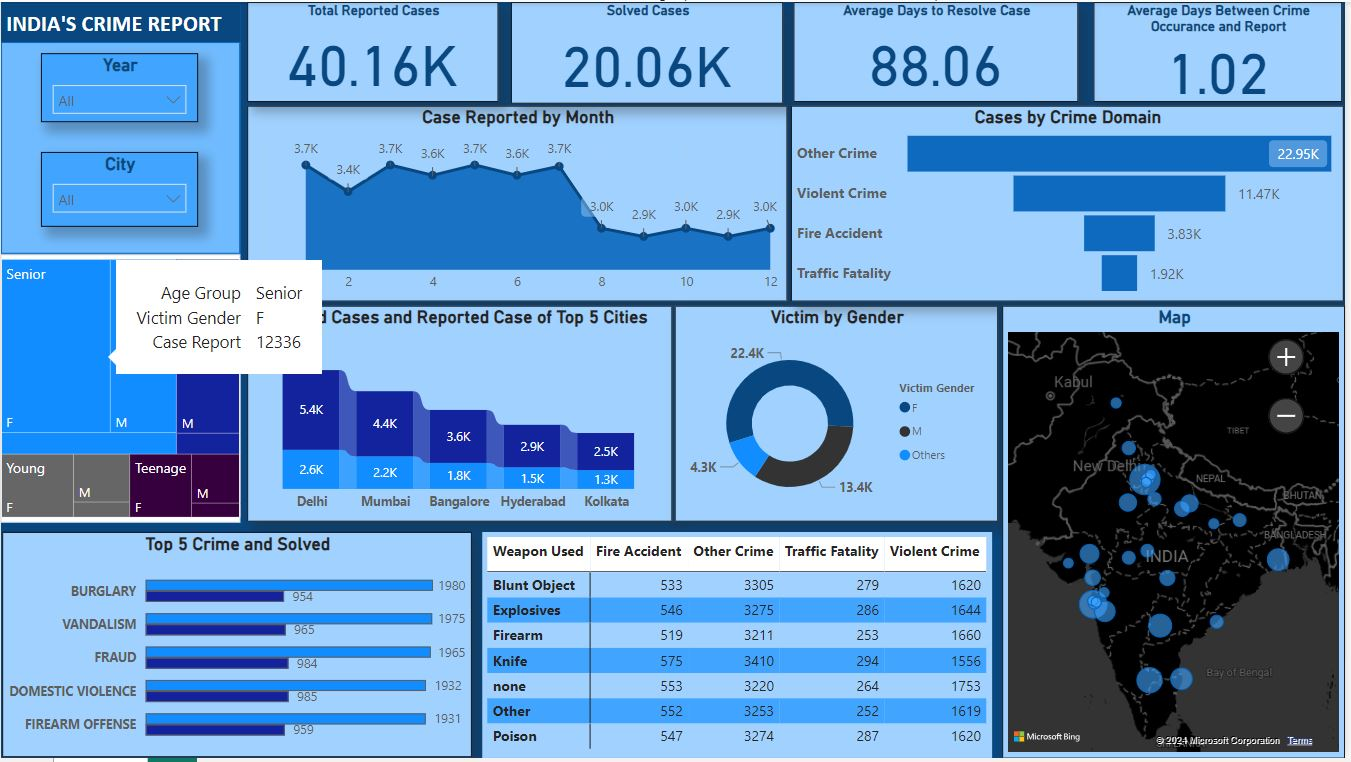

This screenshot's page, from the dashboard's own definition file:
{"tool":"powerbi","page":{"name":"Page 1","canvas":[1280,720],"ordinal":0},"visuals":[{"type":"lineChart","title":"Case Reported by Month","fields":{"Category":["india_crime.Month of occurance"],"Y":["CountNonNull(india_crime.Report Number)"]},"box":[234.6,98.8,514.6,186.6],"z":0},{"type":"card","title":"Total Reported Cases","fields":{"Values":["Count(india_crime.Report Number)"]},"box":[234.5,0,239.3,95.2],"z":1000},{"type":"card","title":"Solved Cases","fields":{"Values":["CountNonNull(india_crime.Case Closed)"]},"box":[485.7,0,259.5,96.4],"z":2000},{"type":"columnChart","title":"Closed Cases and Reported Case of Top 5 Cities","fields":{"Category":["india_crime.City"],"Y":["CountNonNull(india_crime.Date Case Closed)","Count(india_crime.Report Number)"]},"box":[234.6,289.5,404.8,205.8],"z":3000},{"type":"card","title":"Average Days Between Crime Occurance and Report","fields":{"Values":["Avg(india_crime.Days bw occ/report)"]},"box":[1040.5,0,236.9,95.2],"z":4000},{"type":"donutChart","title":"Victim by Gender","fields":{"Category":["india_crime.Victim Gender"],"Y":["CountNonNull(india_crime.Report Number)"]},"box":[642.2,289.5,308,205.8],"z":5000},{"type":"card","title":"Average Days to Resolve Case ","fields":{"Values":["Avg(india_crime.Resolved Duration)"]},"box":[754.8,0,271.4,95.2],"z":6000},{"type":"clusteredBarChart","title":"Top 5 Crime and Solved","fields":{"Category":["india_crime.Crime Description"],"Y":["Count(india_crime.Report Number)","CountNonNull(india_crime.Date Case Closed)"]},"box":[1.4,505,447.3,214.1],"z":7000},{"type":"funnel","title":"Cases by Crime Domain","fields":{"Category":["india_crime.Crime Domain"],"Y":["Count(india_crime.Report Number)"]},"box":[753.6,97.6,525,186.9],"z":8000},{"type":"treemap","fields":{"Group":["india_crime.Age Group"],"Values":["Count(india_crime.Report Number)"],"Details":["india_crime.Victim Gender"]},"box":[0,240.1,227.8,255.2],"z":9000},{"type":"textbox","title":"INDIA''S CRIME REPORT","box":[0,2.7,227.8,35.7],"z":10000},{"type":"map","title":"Map ","fields":{"Category":["india_crime.City"],"Size":["Count(india_crime.Report Number)"],"Y":["Avg(india_crime.Latitude)"],"X":["Avg(india_crime.Longitude)"]},"box":[953.7,289.5,326.6,430.9],"z":11000},{"type":"shape","box":[0,38.4,227.8,201.7],"z":12000},{"type":"slicer","title":"Year","fields":{"Values":["india_crime.Year of occurance"]},"box":[38.4,49.4,149.6,65.9],"z":13000},{"type":"slicer","title":"City","fields":{"Values":["india_crime.City"]},"box":[38.4,142.7,149.6,71.4],"z":14000},{"type":"pivotTable","fields":{"Rows":["india_crime.Weapon Used"],"Values":["Count(india_crime.Report Number)"],"Columns":["india_crime.Crime Domain"]},"box":[458.3,505,485.8,215.4],"z":15000}]}

Visuals, with their boxes in screenshot pixels (x1, y1, x2, y2), scaled from the page's 1280x720 canvas onto the 1351x762 screenshot:
"Case Reported by Month" lineChart: (x1=248, y1=105, x2=791, y2=302)
"Total Reported Cases" card: (x1=248, y1=0, x2=500, y2=101)
"Solved Cases" card: (x1=513, y1=0, x2=787, y2=102)
"Closed Cases and Reported Case of Top 5 Cities" columnChart: (x1=248, y1=306, x2=675, y2=524)
"Average Days Between Crime Occurance and Report" card: (x1=1098, y1=0, x2=1348, y2=101)
"Victim by Gender" donutChart: (x1=678, y1=306, x2=1003, y2=524)
"Average Days to Resolve Case " card: (x1=797, y1=0, x2=1083, y2=101)
"Top 5 Crime and Solved" clusteredBarChart: (x1=1, y1=534, x2=474, y2=761)
"Cases by Crime Domain" funnel: (x1=795, y1=103, x2=1350, y2=301)
treemap - india_crime.Age Group x Count(india_crime.Report Number): (x1=0, y1=254, x2=240, y2=524)
"INDIA''S CRIME REPORT" textbox: (x1=0, y1=3, x2=240, y2=41)
"Map " map: (x1=1007, y1=306, x2=1350, y2=761)
shape: (x1=0, y1=41, x2=240, y2=254)
"Year" slicer: (x1=41, y1=52, x2=198, y2=122)
"City" slicer: (x1=41, y1=151, x2=198, y2=227)
pivotTable - india_crime.Weapon Used x Count(india_crime.Report Number): (x1=484, y1=534, x2=996, y2=761)
